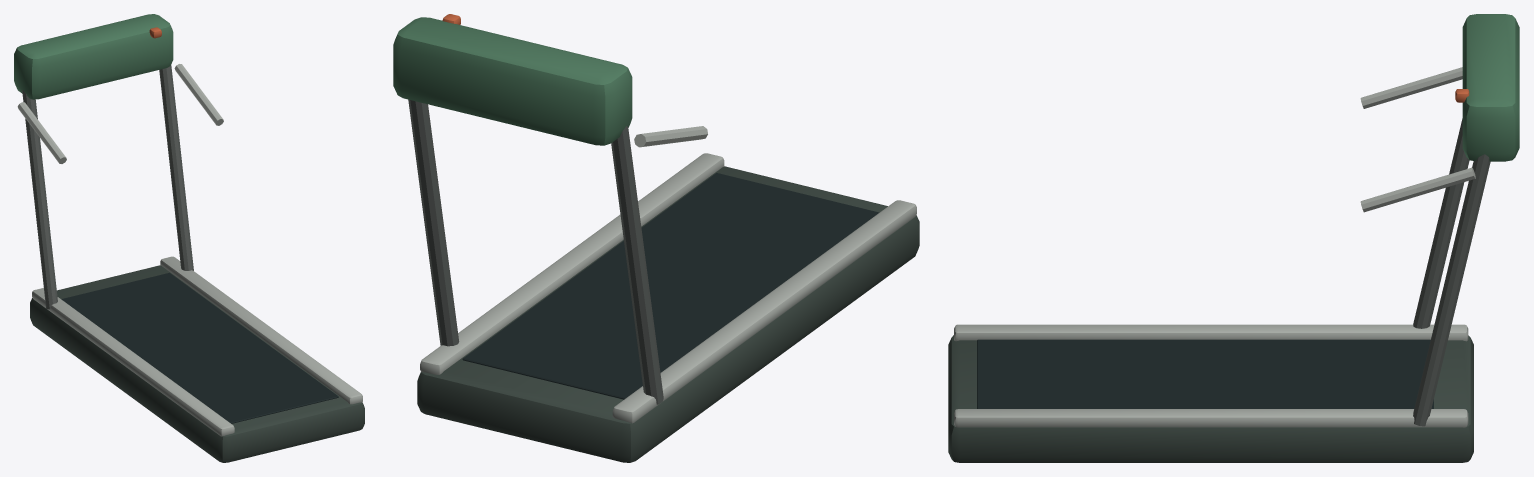
Rendered from treadmill.glb.
The picture shows the model from 3 angles, left to right: view 1: azimuth 30°, elevation 25°; view 2: azimuth 150°, elevation 25°; view 3: azimuth 270°, elevation 25°; orthographic projection. The views are drawn at different scales.
Visible parts, largest first — view 1: FURN-treadmill; view 2: FURN-treadmill; view 3: FURN-treadmill.
Part boxes in pixels (x1,y1,x2,y2): FURN-treadmill: (14, 14, 364, 462); FURN-treadmill: (393, 14, 919, 462); FURN-treadmill: (948, 14, 1519, 462).
Bounding box in the file's own units: 0.9 × 1.4 × 2.
